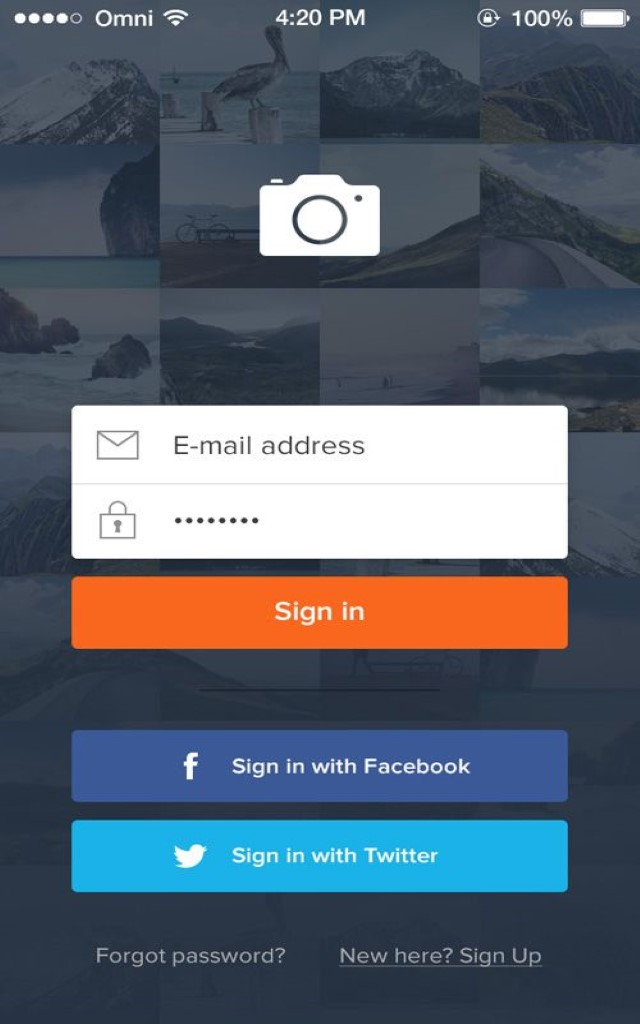button: (72, 572, 570, 650), (70, 732, 569, 805), (70, 819, 567, 892)
label_SignIn: (274, 597, 372, 628)
label_email: (172, 432, 258, 466)
textbox: (161, 413, 550, 480), (163, 491, 552, 555)
